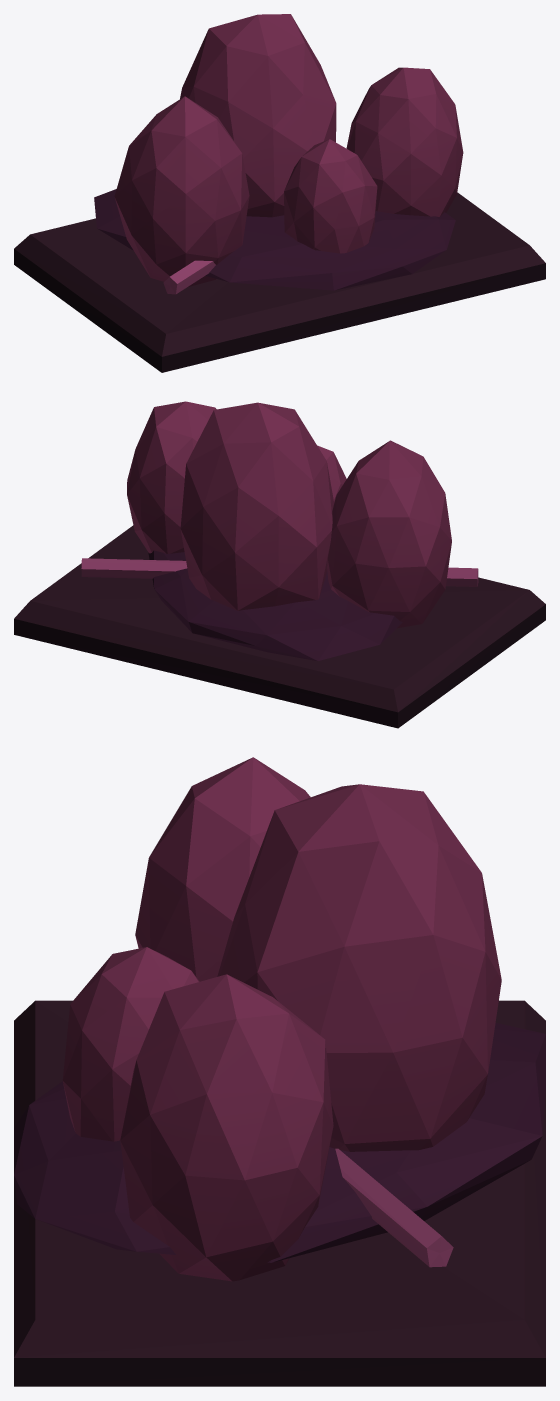
File: creep-pods.glb
3 renders of one model, top to bottom at view 1: azimuth 30°, elevation 25°; view 2: azimuth 150°, elevation 25°; view 3: azimuth 270°, elevation 25°, orthographic. The views are drawn at different scales.
Size of the model in its own units: 3 by 1.8 by 2.
